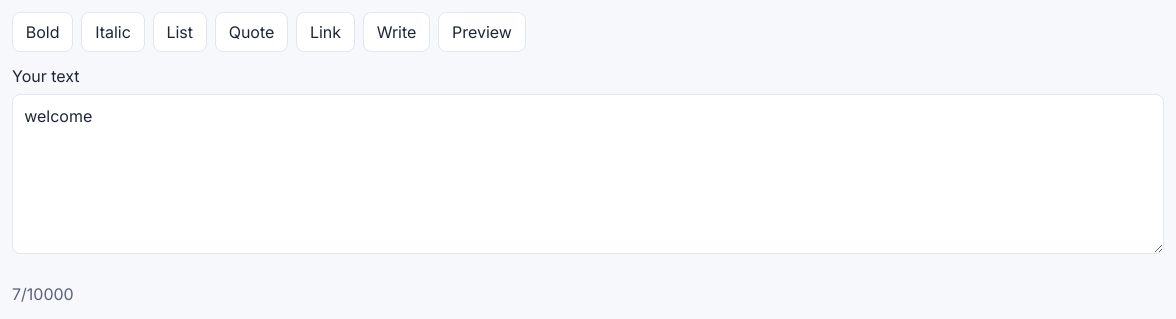
Scenario: previews the formatted words and prevents hidden edits while previewing
The image size is (1176, 319).
Step 1. Click the button "Bold" → (43, 32), box [12,12,73,52]
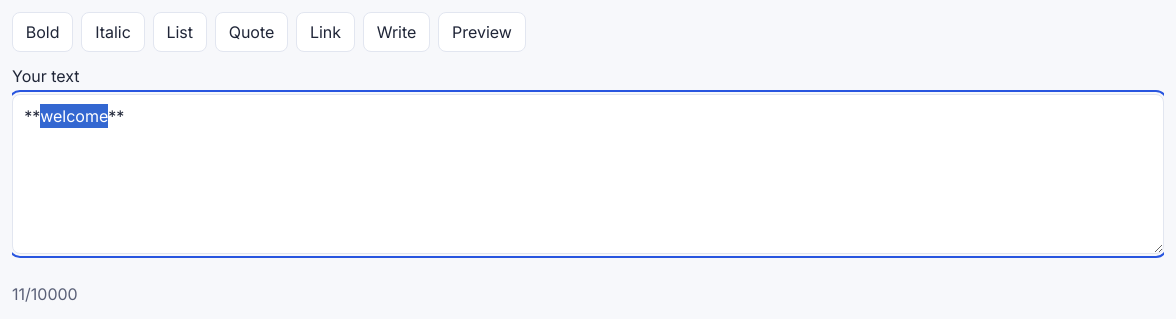
Step 2. Click the button "Preview" → (482, 32), box [438,12,526,52]
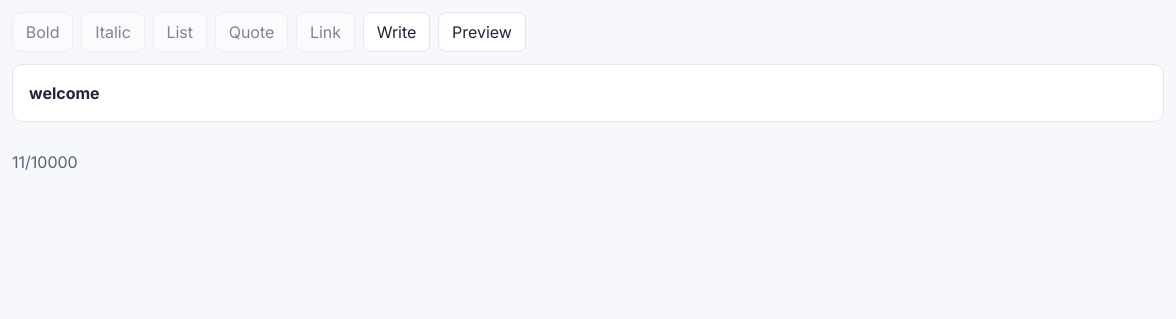
Expected: the text "welcome" is shown, [29,83,100,103]
Expected: the button "Bold" is disabled, [12,12,73,52]
Expected: the button "Italic" is disabled, [81,12,145,52]
Step 3. Click the button "Write" → (397, 32), box [363,12,430,52]
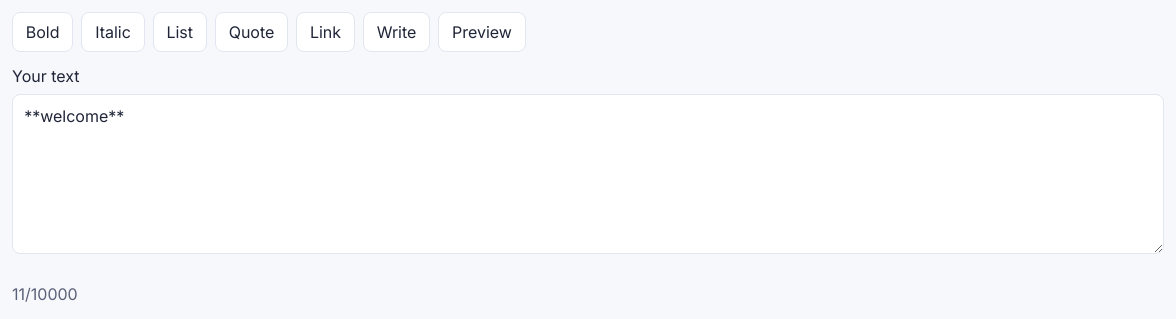
Expected: the text box labelled "Your text" holds "**welcome**", [12,94,1164,254]
